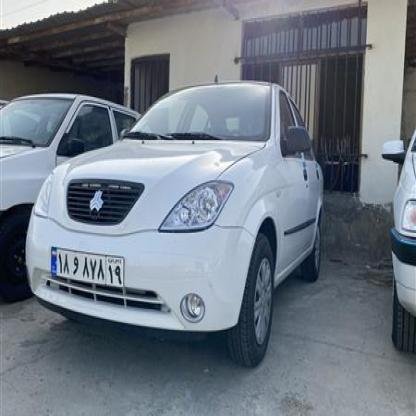Car: (34, 72, 327, 376), (0, 70, 144, 278), (375, 126, 416, 336)
